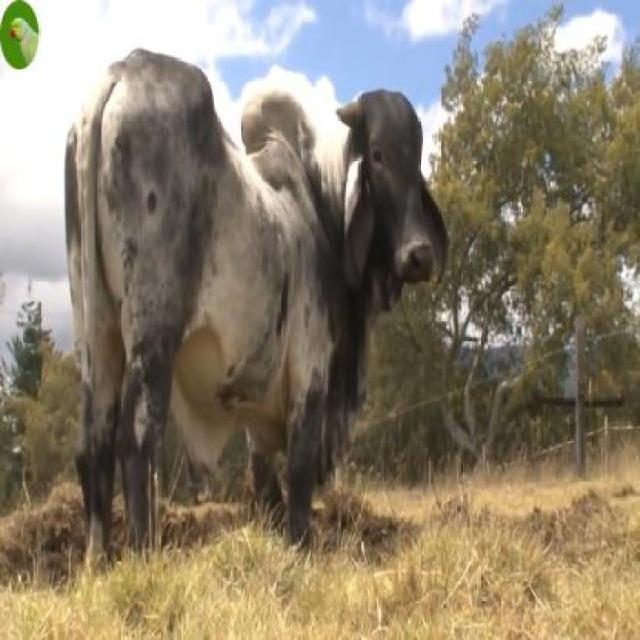Cow: (68, 37, 442, 563)
